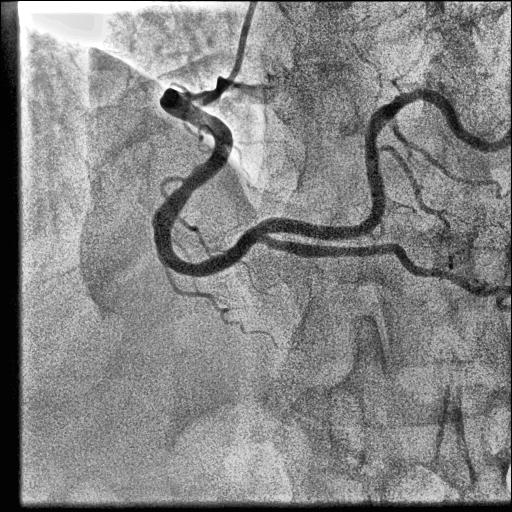pborca: (256, 88, 511, 240)
pda: (260, 235, 512, 311)
rca: (152, 77, 263, 277)
